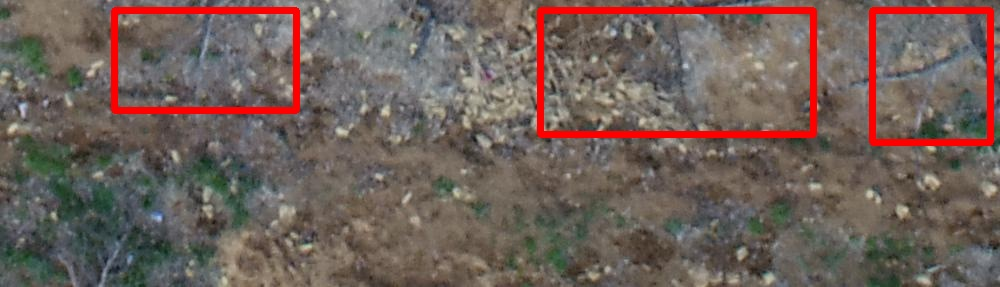apple: (540, 10, 813, 134), (114, 10, 296, 110), (872, 10, 990, 142)
